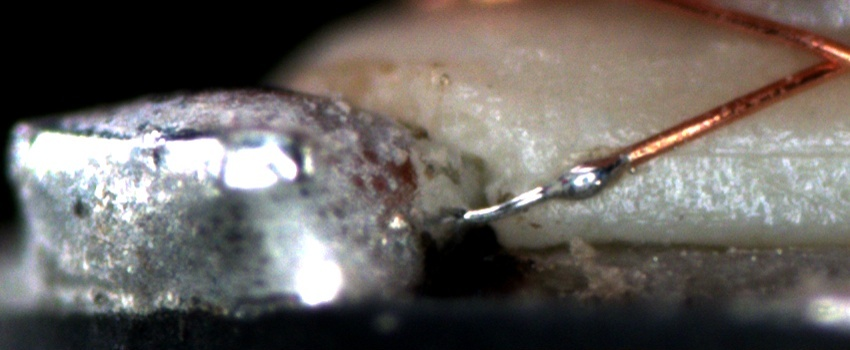CL: (794, 29, 850, 85)
DL: (684, 119, 850, 183)
TB: (547, 149, 634, 205)
TS: (463, 153, 626, 223)
TTCW: (464, 127, 686, 223)
